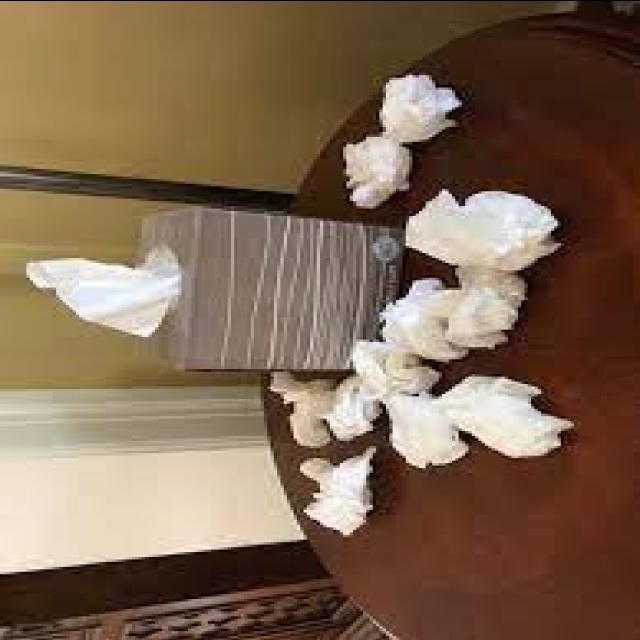tissue: (27, 246, 181, 336), (406, 189, 560, 270), (437, 375, 573, 456), (380, 276, 468, 360), (447, 266, 527, 347), (300, 450, 376, 535), (384, 393, 468, 464), (379, 74, 461, 140), (350, 341, 440, 396), (270, 370, 335, 445), (350, 136, 411, 205), (325, 376, 381, 440)
